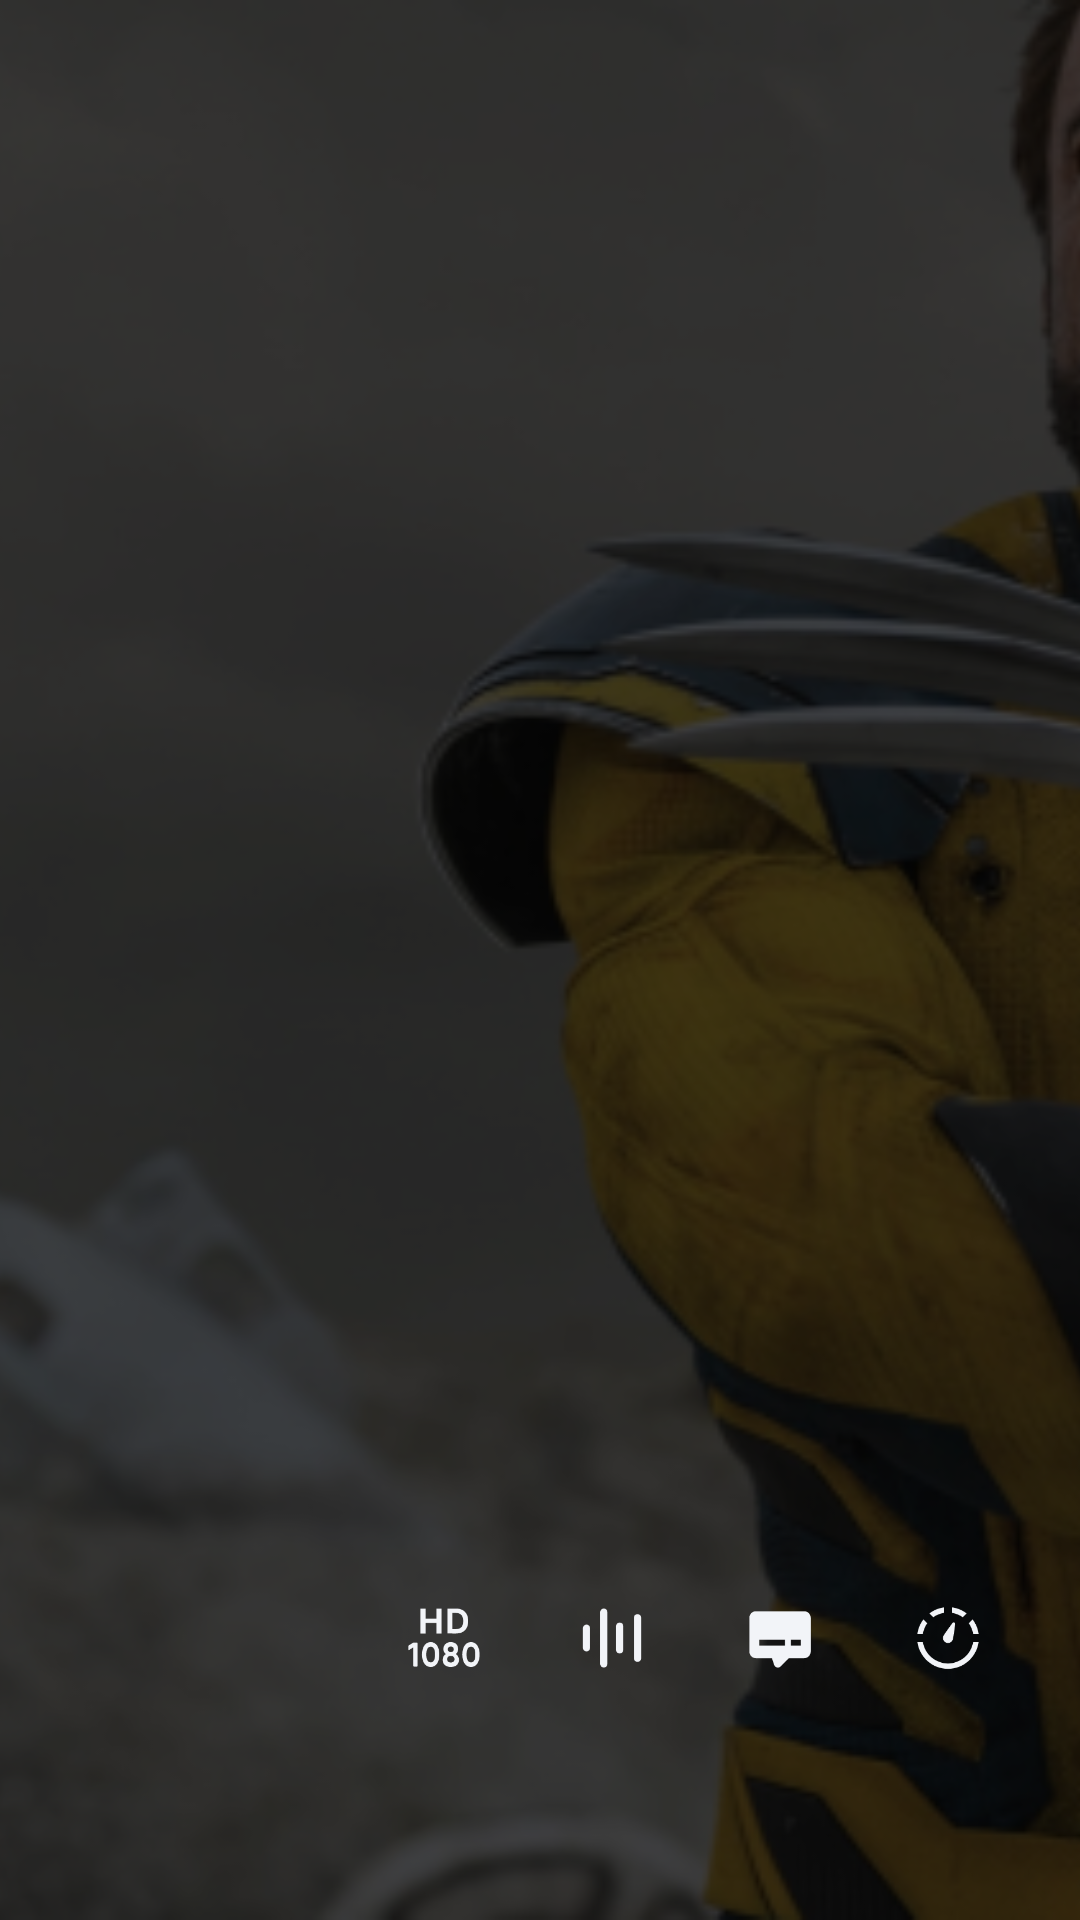

Point at icon controls on the screen. Image size 1080w x 1920h, points as (x=x, y=y).
audio: (x=612, y=1638)
playback speed: (x=948, y=1638)
subtitles: (x=780, y=1638)
